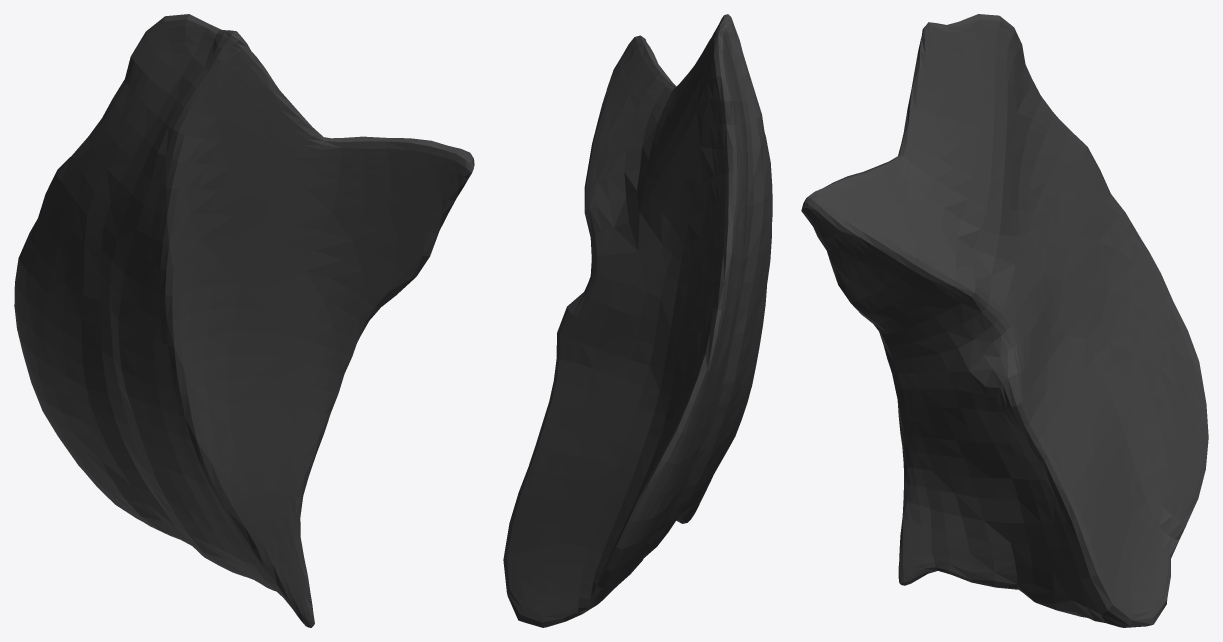
The model's file is R_lung_middle_lobe_LOW.glb.
3 views of the same model, side by side, from view 1: azimuth 30°, elevation 25°; view 2: azimuth 150°, elevation 25°; view 3: azimuth 270°, elevation 25° (orthographic). The views are drawn at different scales.
Visible parts, largest first — view 1: R_lung_middle_lobe_LOW; view 2: R_lung_middle_lobe_LOW; view 3: R_lung_middle_lobe_LOW.
Boxes of the visible parts, x1,y1,x2,y2 form: R_lung_middle_lobe_LOW: [14, 14, 474, 627]; R_lung_middle_lobe_LOW: [503, 14, 772, 627]; R_lung_middle_lobe_LOW: [801, 14, 1208, 627].
Bounding box in the file's own units: 0.00513 × 0.0112 × 0.00741.
Materials: 1 (1 with a texture image).
